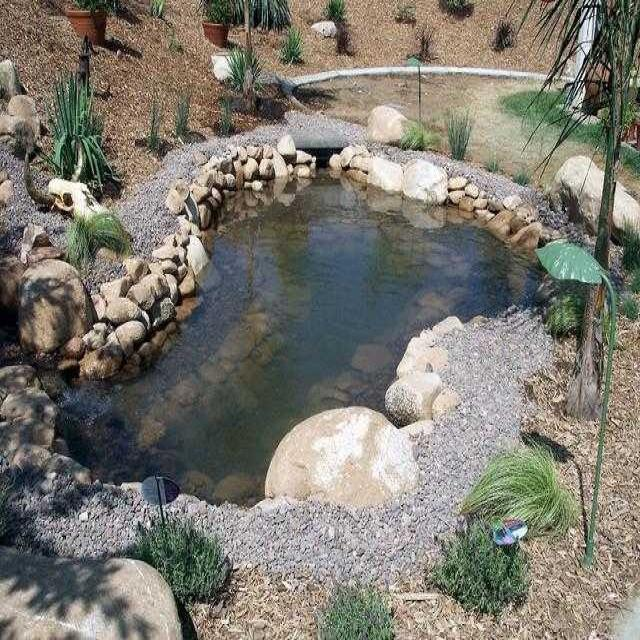Ponds: (52, 159, 529, 492)
